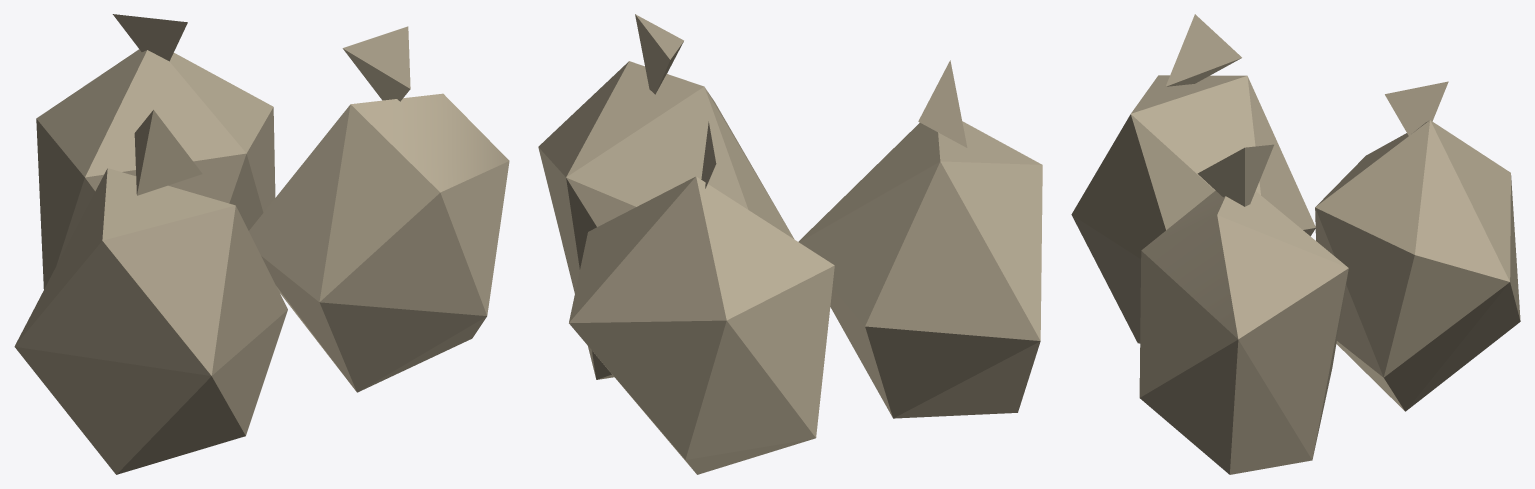
File: grain_sacks_lod2.glb
3 views of the same model, side by side, from view 1: azimuth 30°, elevation 25°; view 2: azimuth 150°, elevation 25°; view 3: azimuth 270°, elevation 25° (orthographic). The views are drawn at different scales.
Visible parts, largest first — view 1: m; view 2: m; view 3: m.
Boxes of the visible parts, x1,y1,x2,y2 form: m: [14, 14, 509, 474]; m: [538, 14, 1042, 474]; m: [1071, 14, 1520, 474].
Size of the model in its own units: 1.08 by 0.743 by 0.9012.
